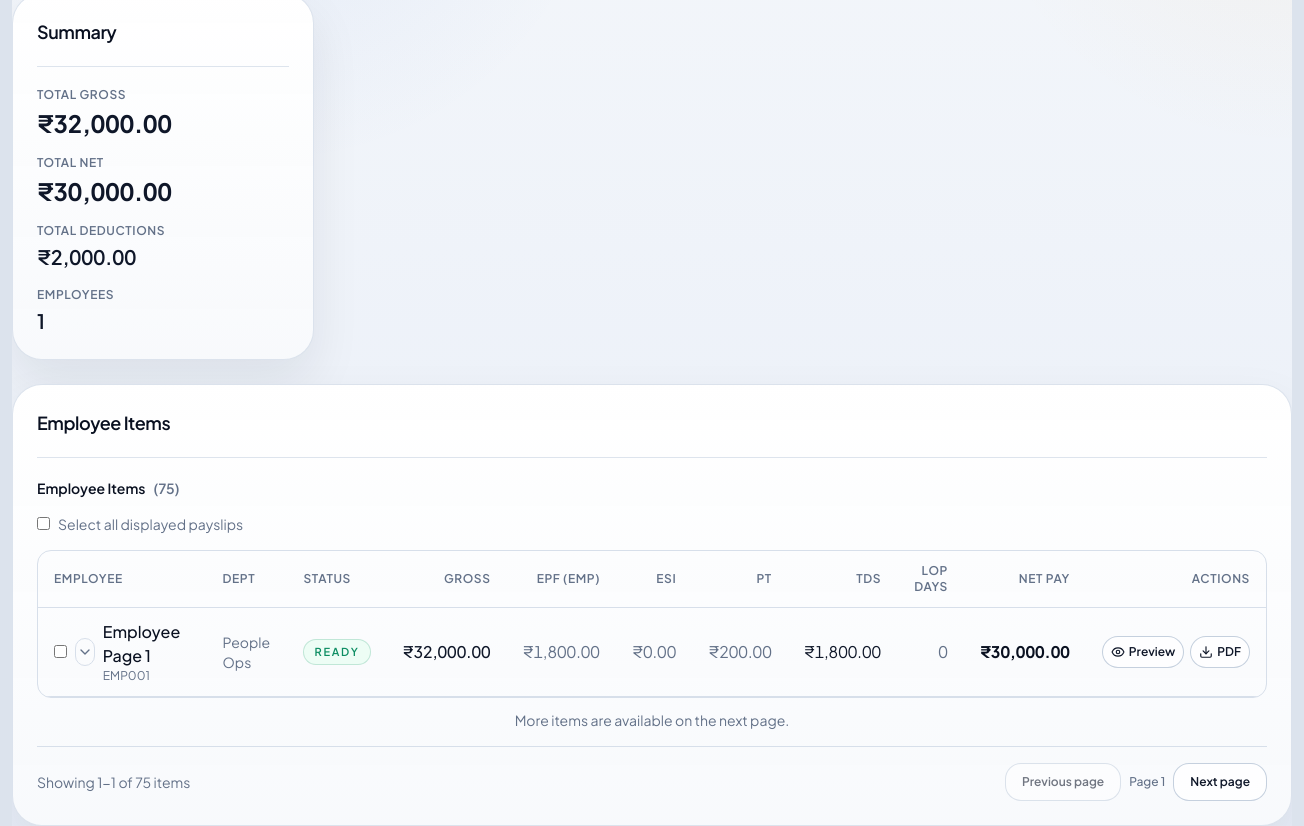
Test: PayrollRunDetailPage › requests the next run-item page from the API
(page scrolled)
Click the button "Next page" at x=1220, y=782, box [1173, 763, 1267, 801]
(page scrolled)
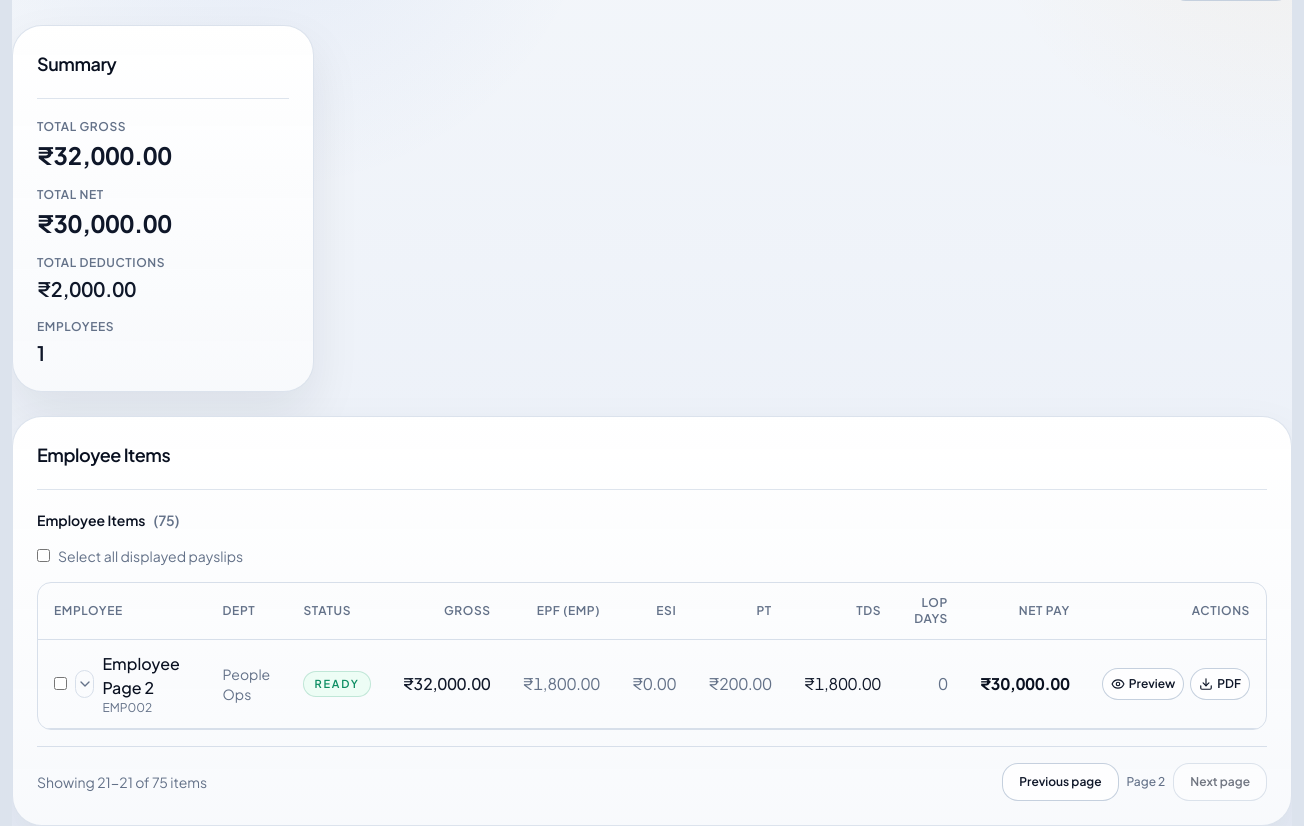
Expected: the text "Employee Page 2" is shown, [102, 652, 191, 700]
Expected: the text "Showing 21-21 of 75 items" is shown, [37, 772, 207, 792]
